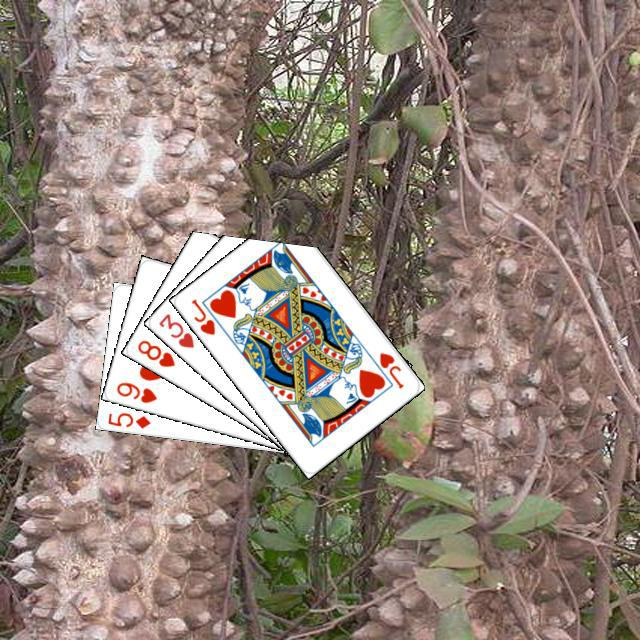3h: (154, 308, 196, 350)
5d: (103, 407, 152, 430)
8h: (132, 335, 177, 369)
9h: (111, 377, 159, 405)
Jh: (186, 294, 217, 337), (374, 347, 405, 390)
